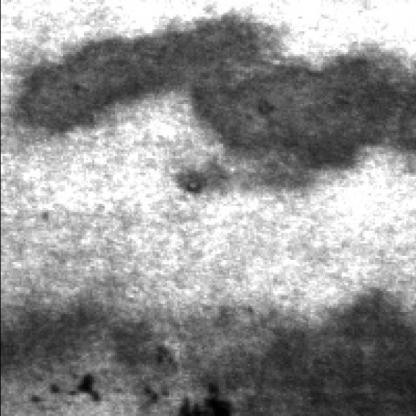patches: (21, 10, 416, 175), (160, 297, 416, 414), (6, 296, 173, 378)
